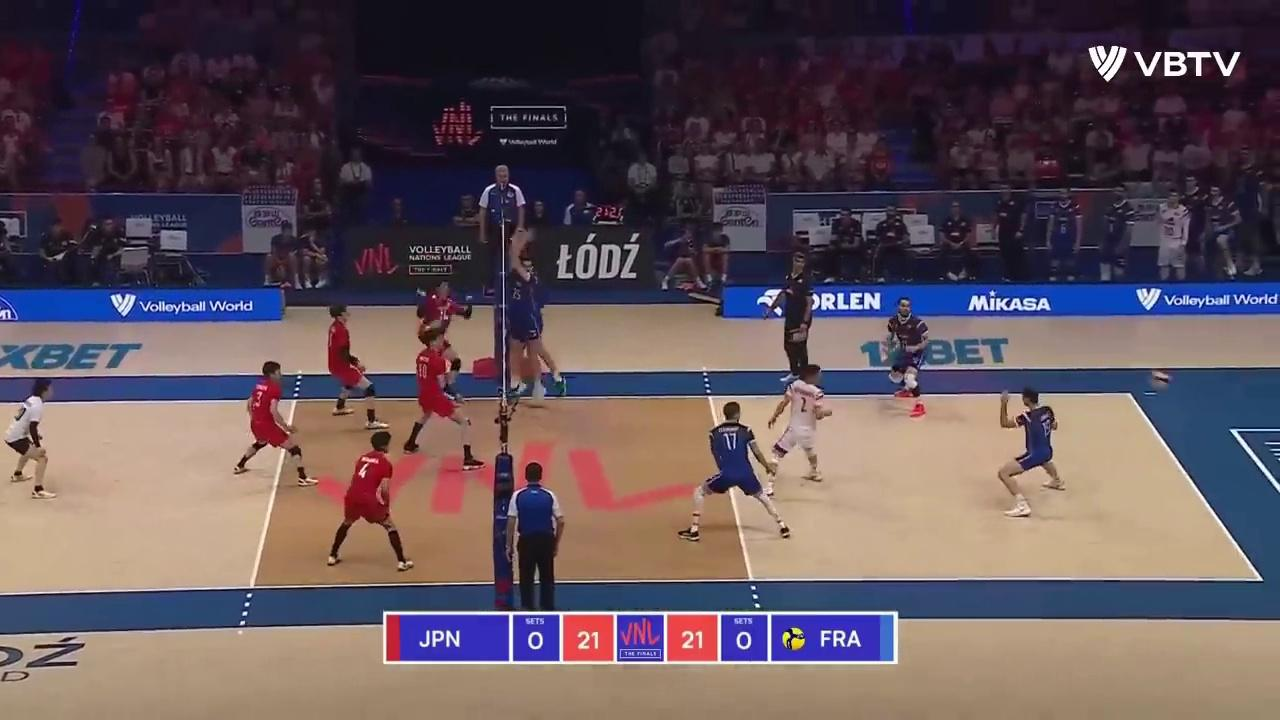ball: (1150, 370, 1171, 393)
